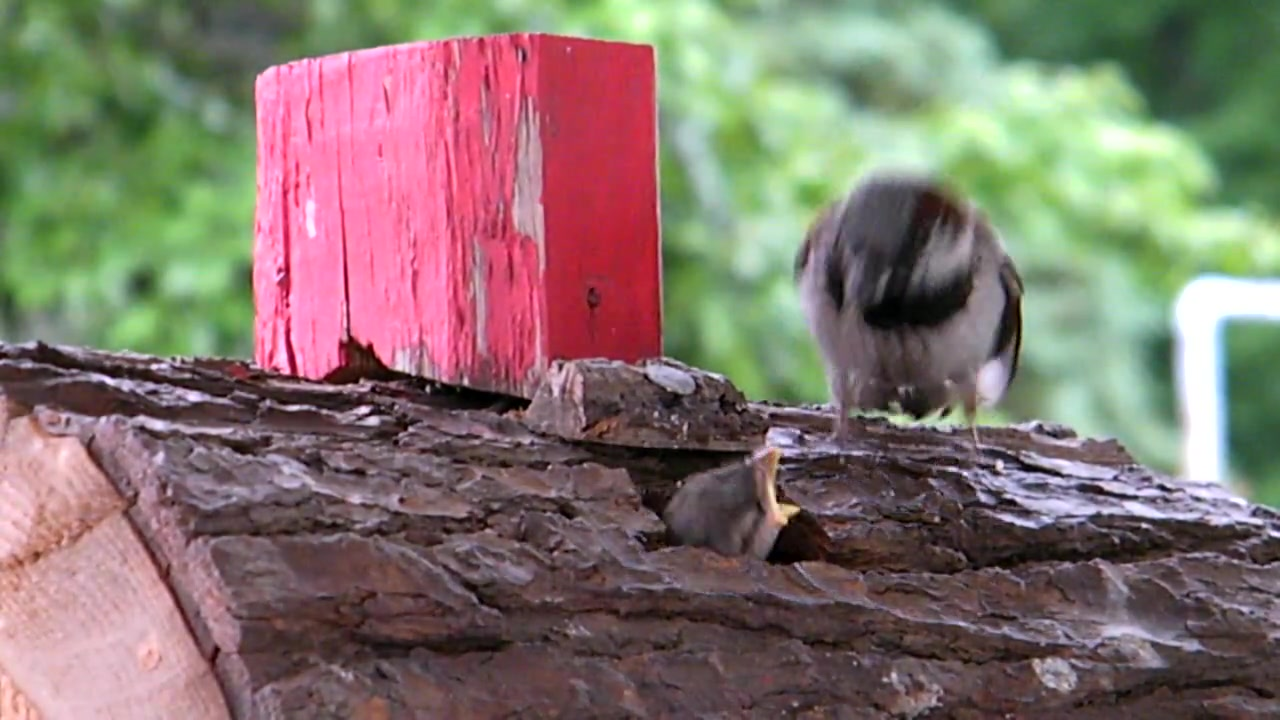bird: (795, 172, 1027, 483)
